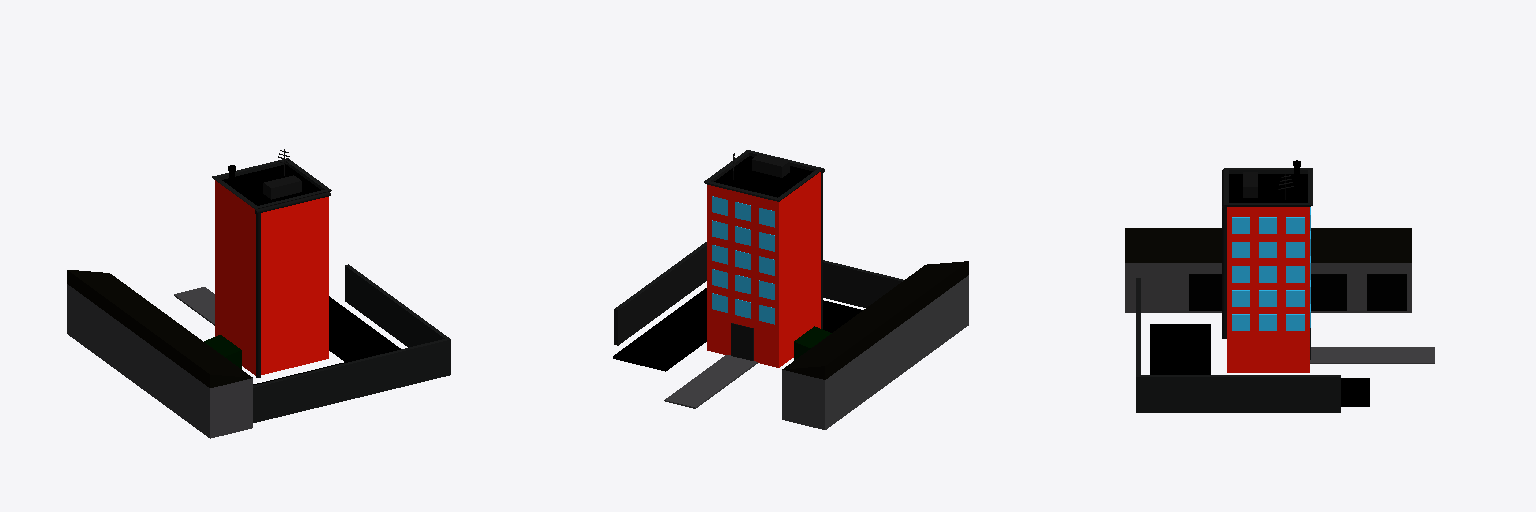
The model's file is building2.obj.
3 views of the same model, side by side, from view 1: azimuth 30°, elevation 25°; view 2: azimuth 150°, elevation 25°; view 3: azimuth 270°, elevation 25° (orthographic).
Parts seen in each view (by area): view 1: Cube, Cube.009, Cube.006, Cube.007, Cube.011, Cube.008, Cylinder, Cube.001, Cube.004; view 2: Cube, Cube.009, Cube.011, Cube.003, Cube.007, Cube.006, Cube.008, Cube.002, Cube.001, Cube.004; view 3: Cube.009, Cube, Cube.007, Cube.005, Cube.010, Cube.011, Cube.008, Cylinder.
Part boxes in pixels (bbox=[...]): Cube: bbox=[212, 158, 331, 375]; Cube.009: bbox=[67, 270, 252, 438]; Cube.006: bbox=[253, 339, 450, 422]; Cube.007: bbox=[345, 264, 450, 375]; Cube.011: bbox=[253, 296, 400, 384]; Cube.008: bbox=[174, 287, 214, 325]; Cylinder: bbox=[256, 212, 260, 377]; Cube.001: bbox=[263, 175, 301, 199]; Cube.004: bbox=[204, 335, 241, 368]; Cube: bbox=[704, 150, 823, 367]; Cube.009: bbox=[782, 261, 968, 429]; Cube.011: bbox=[613, 288, 862, 371]; Cube.003: bbox=[712, 196, 774, 324]; Cube.007: bbox=[614, 242, 706, 345]; Cube.006: bbox=[823, 260, 903, 307]; Cube.008: bbox=[664, 355, 757, 408]; Cube.002: bbox=[731, 323, 753, 360]; Cube.001: bbox=[752, 154, 789, 177]; Cube.004: bbox=[794, 326, 831, 360]; Cube.009: bbox=[1125, 228, 1411, 312]; Cube: bbox=[1224, 168, 1312, 372]; Cube.007: bbox=[1136, 375, 1340, 412]; Cube.005: bbox=[1232, 217, 1304, 330]; Cube.010: bbox=[1189, 274, 1406, 310]; Cube.011: bbox=[1150, 324, 1369, 406]; Cube.008: bbox=[1310, 347, 1434, 363]; Cylinder: bbox=[1222, 208, 1226, 338].
Size of the model in its own units: 8.49 by 6.38 by 9.24.